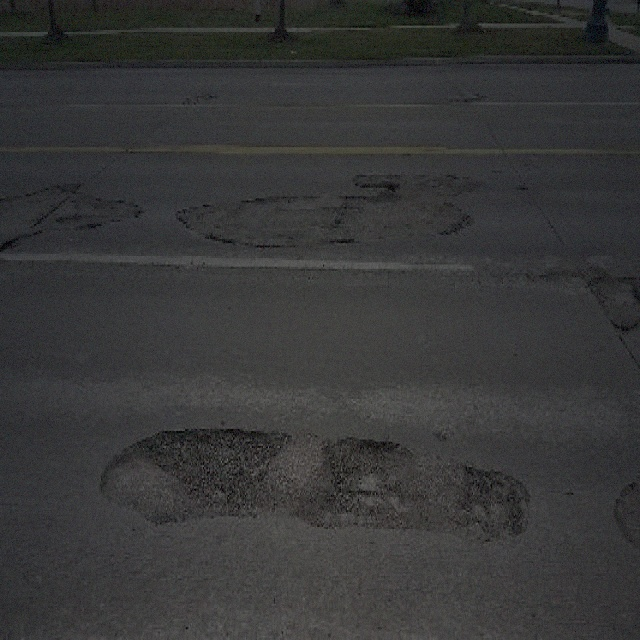pothole: (140, 426, 292, 504), (320, 429, 410, 520), (458, 458, 527, 538), (381, 175, 401, 198)
